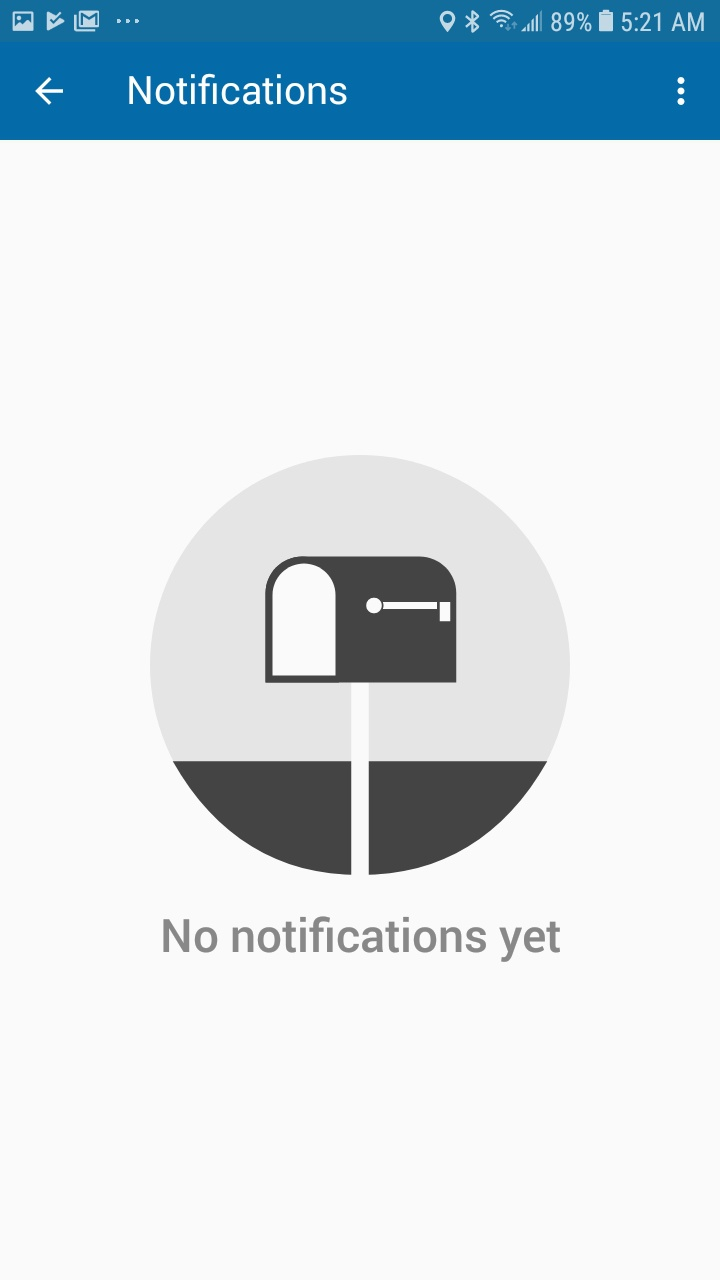Icon: (35, 77, 64, 107), (676, 77, 686, 107)
Image: (150, 455, 571, 876)
Text: (163, 915, 561, 963), (129, 74, 348, 107)
UpperTaskBar: (1, 1, 720, 43)
